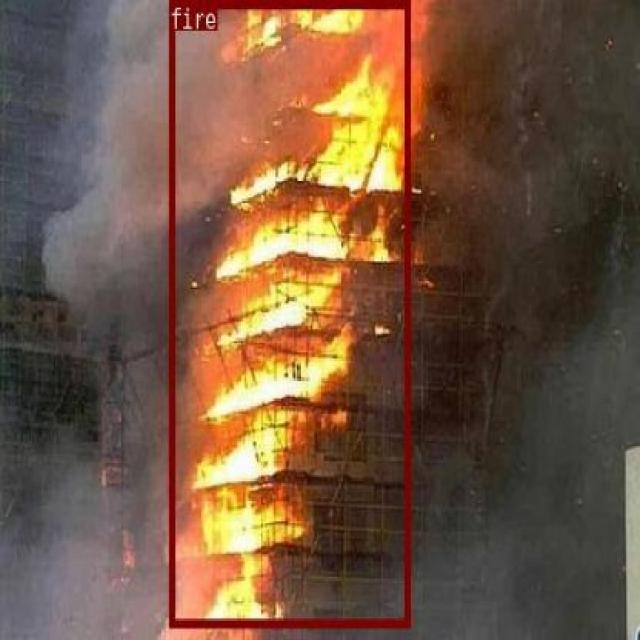Fire: (168, 0, 409, 625)
Smoke: (415, 0, 640, 640), (0, 0, 190, 640)
